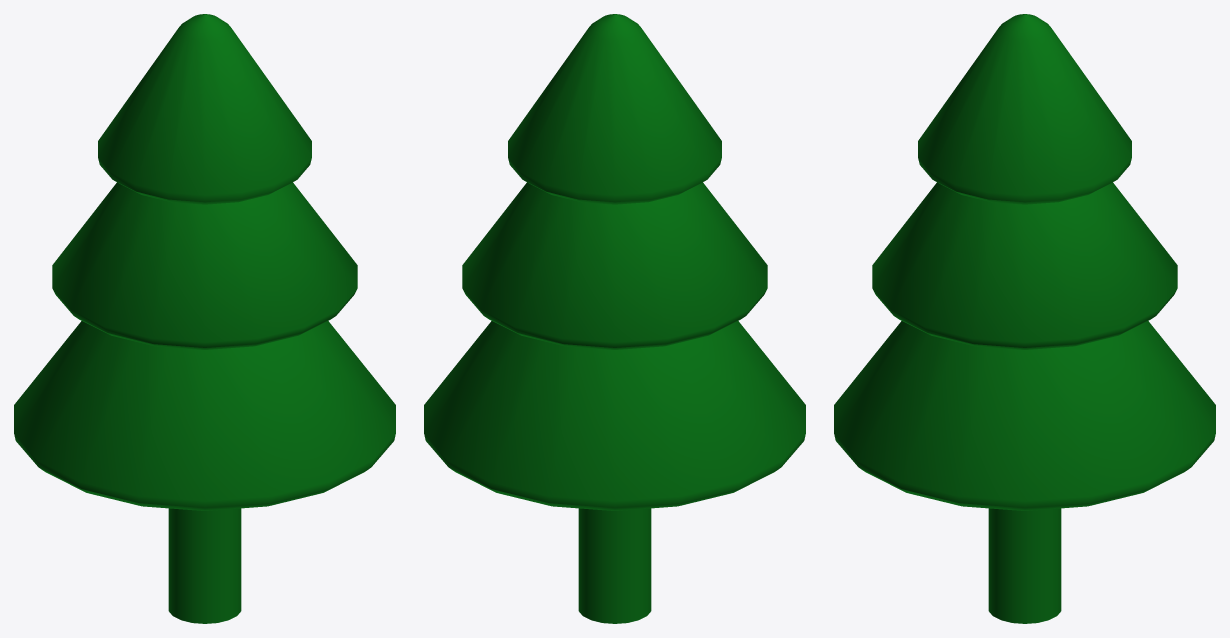
File: Sapin.fbx
3 views of the same model, side by side, from view 1: azimuth 30°, elevation 25°; view 2: azimuth 150°, elevation 25°; view 3: azimuth 270°, elevation 25° (orthographic).
Visible parts, largest first — view 1: Sapin; view 2: Sapin; view 3: Sapin.
Part boxes in pixels (bbox=[...]): Sapin: bbox=[14, 14, 395, 623]; Sapin: bbox=[424, 14, 805, 623]; Sapin: bbox=[834, 14, 1215, 623].
Size of the model in its own units: 177 by 299 by 174.
